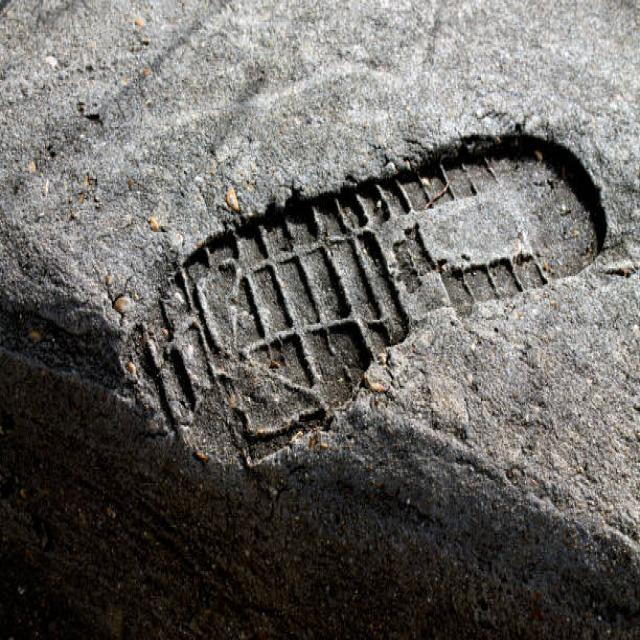human_footprint: (125, 125, 611, 474)
